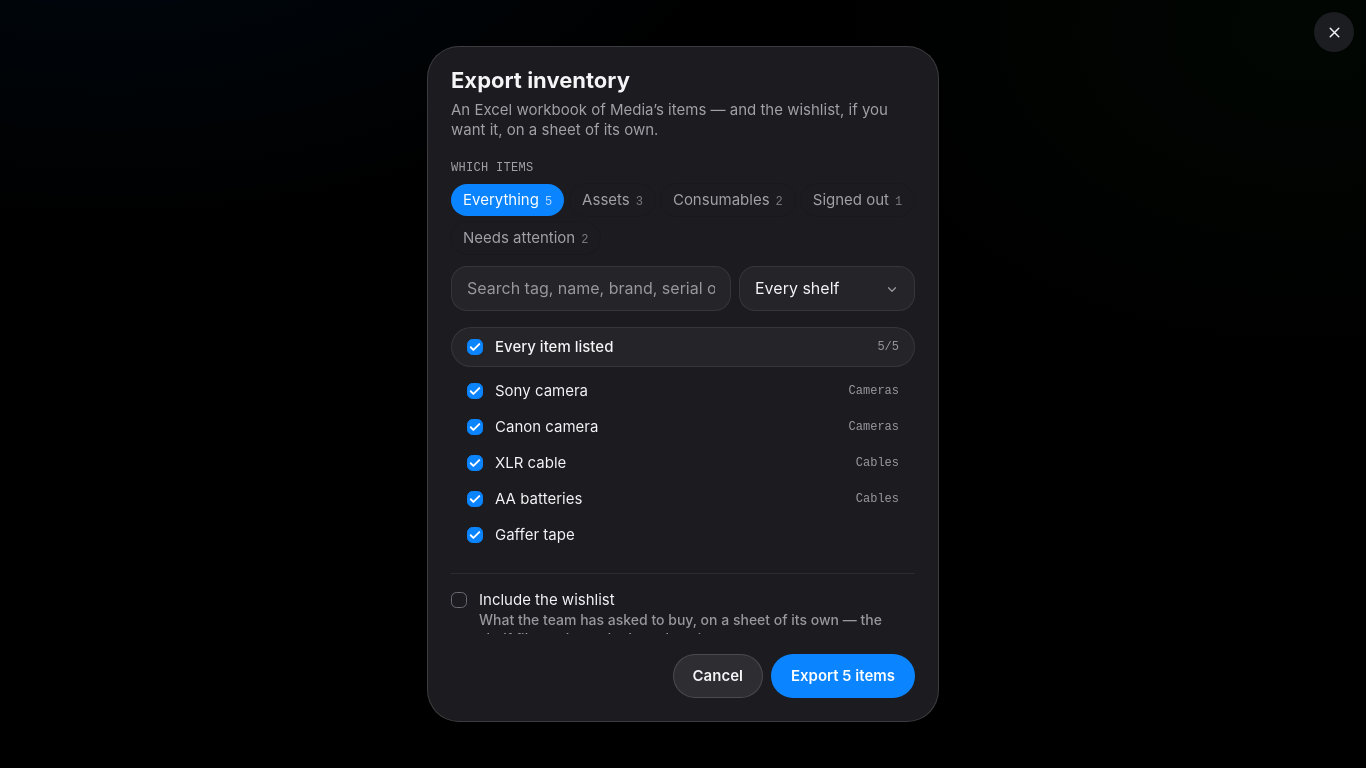
exporting the inventory › unticks and reticks every item listed at once
Click the checkbox labelled "Every item listed".
click(475, 347)  # box [467,339,483,355]
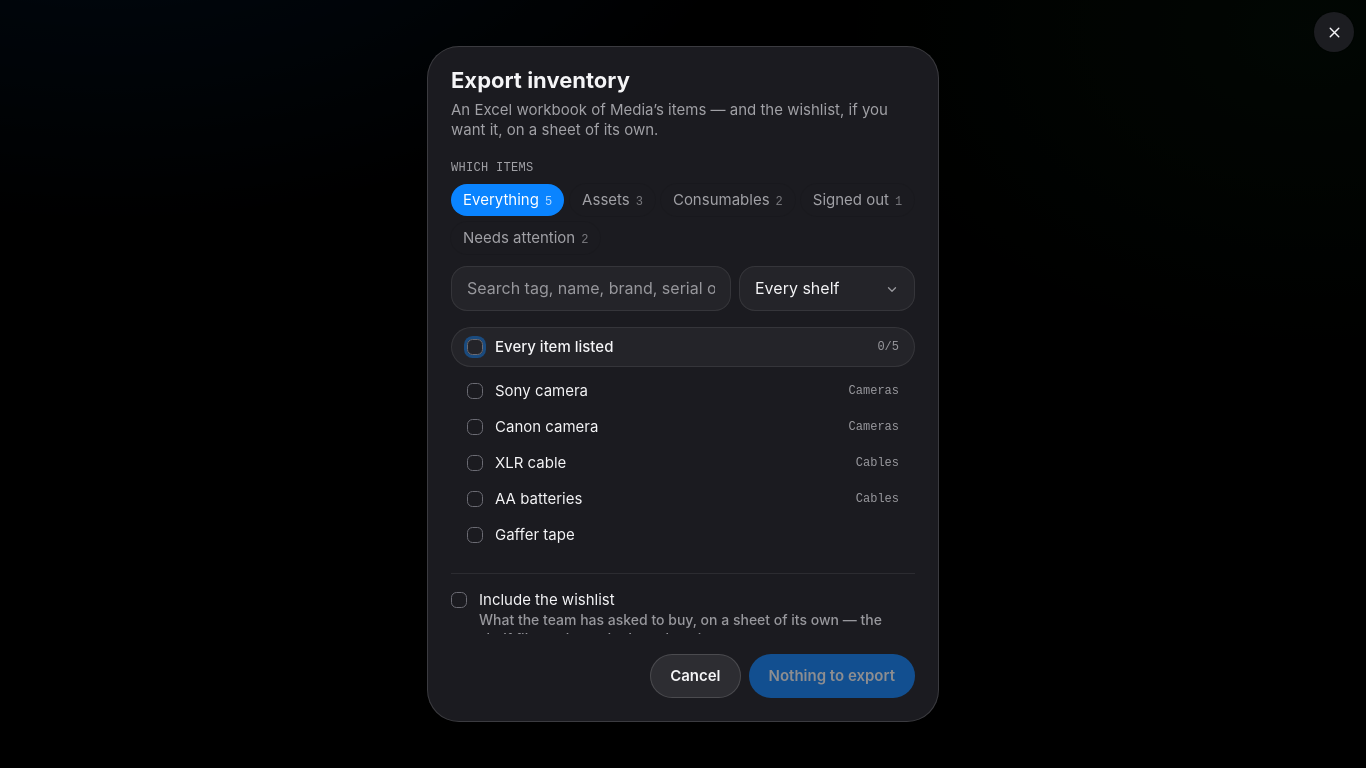
Check: the text with test id "export-count" reads "0/5", box [877,339,899,355]
Click the checkbox labelled "Every item listed".
click(475, 347)  # box [467,339,483,355]
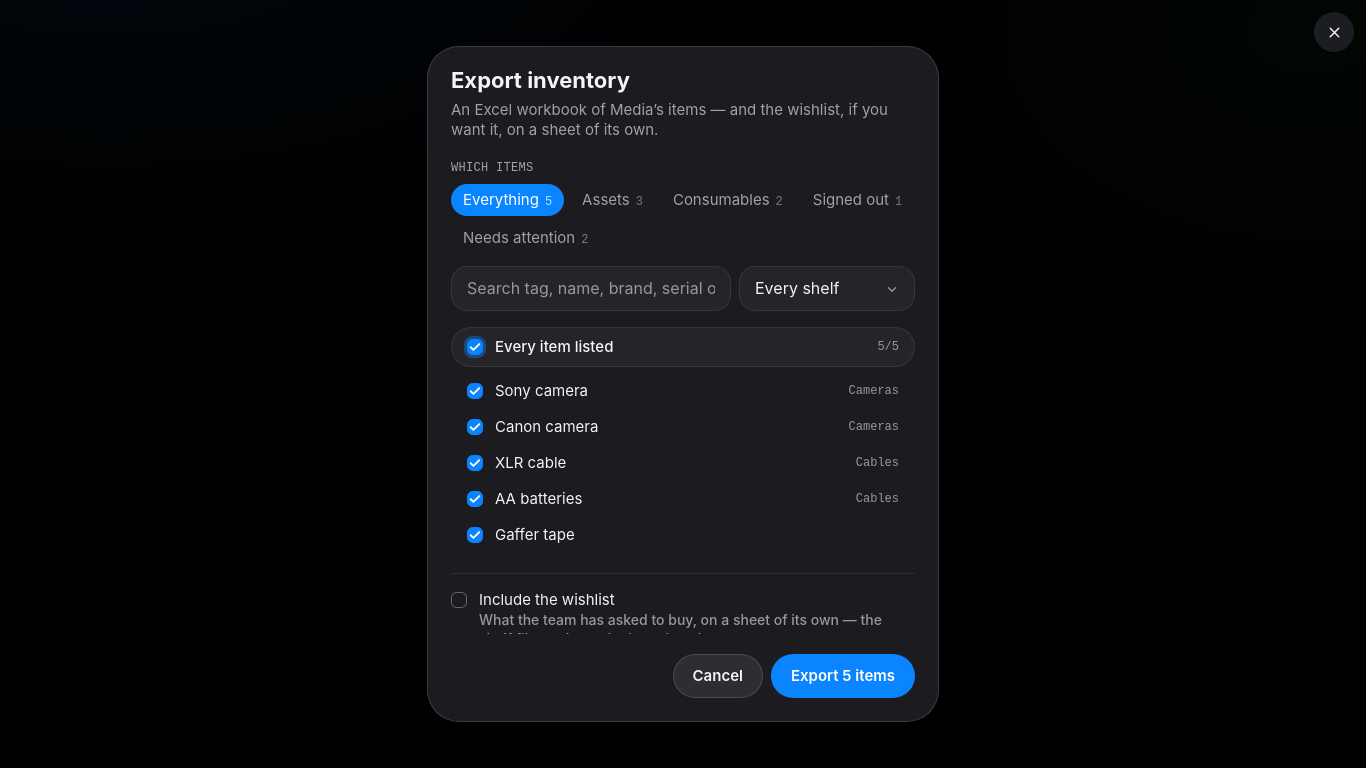
Check: the text with test id "export-count" reads "5/5", box [877,339,899,355]
